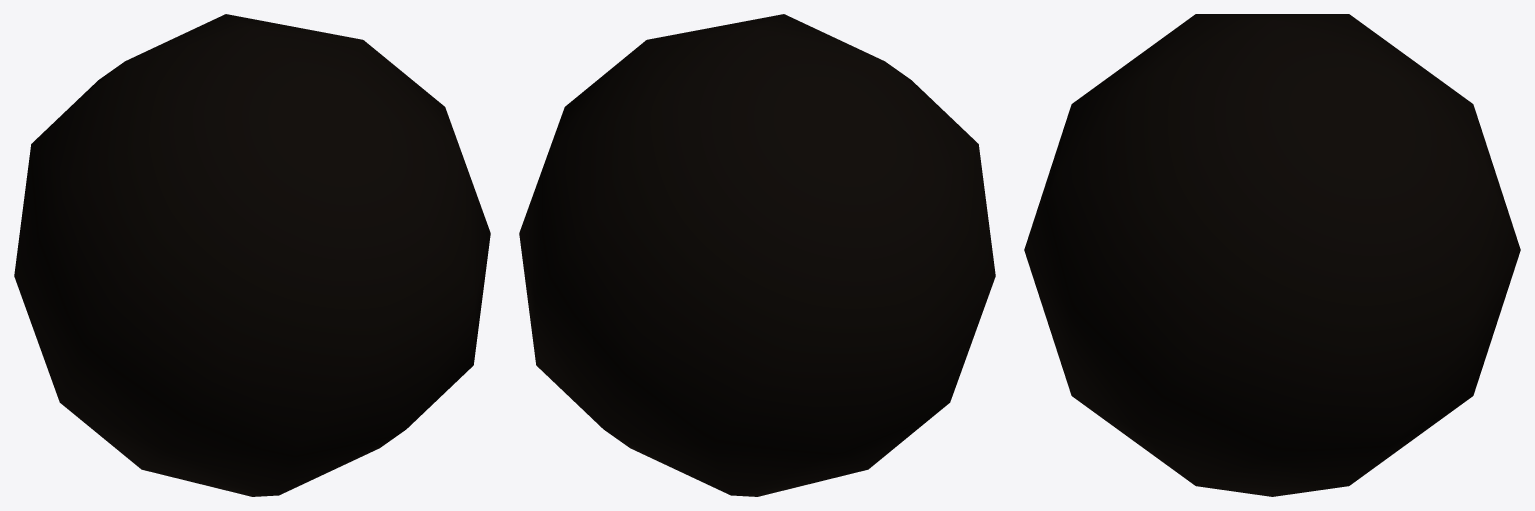
Rendered from WallTorch.fbx.
3 renders of one model, left to right at view 1: azimuth 30°, elevation 25°; view 2: azimuth 150°, elevation 25°; view 3: azimuth 270°, elevation 25°, orthographic.
Parts seen in each view (by area): view 1: Fire.000; view 2: Fire.000; view 3: Fire.000.
Part boxes in pixels (left/top/right/bottom): Fire.000: left=14, top=14, right=490, bottom=496; Fire.000: left=519, top=14, right=995, bottom=496; Fire.000: left=1024, top=14, right=1520, bottom=496.
Size of the model in its own units: 1.86 by 2.08 by 1.96.
3 materials, 3 textured.
